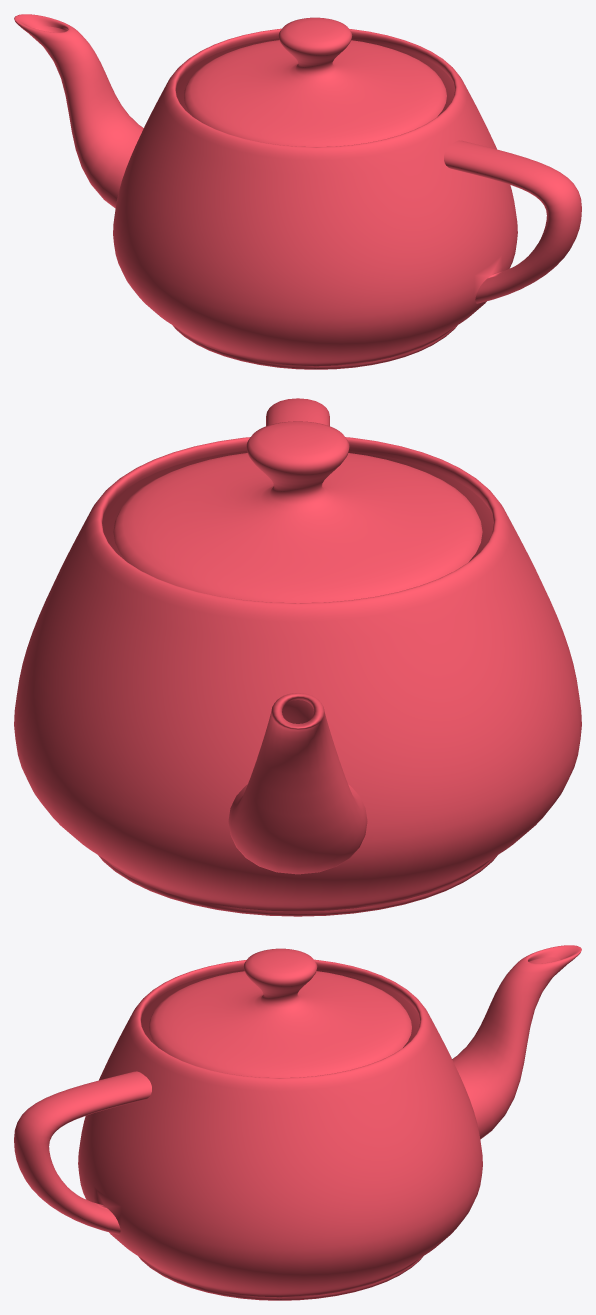
File: teapot.gltf
3 views of the same model, one above another, from view 1: azimuth 30°, elevation 25°; view 2: azimuth 150°, elevation 25°; view 3: azimuth 270°, elevation 25° (orthographic). The views are drawn at different scales.
Parts seen in each view (by area): view 1: Teapot; view 2: Teapot; view 3: Teapot.
Part boxes in pixels (x1,y1,x2,y2): Teapot: (14, 14, 581, 369); Teapot: (14, 398, 581, 916); Teapot: (14, 945, 581, 1300).
Size of the model in its own units: 40.13 by 31.5 by 56.3.
